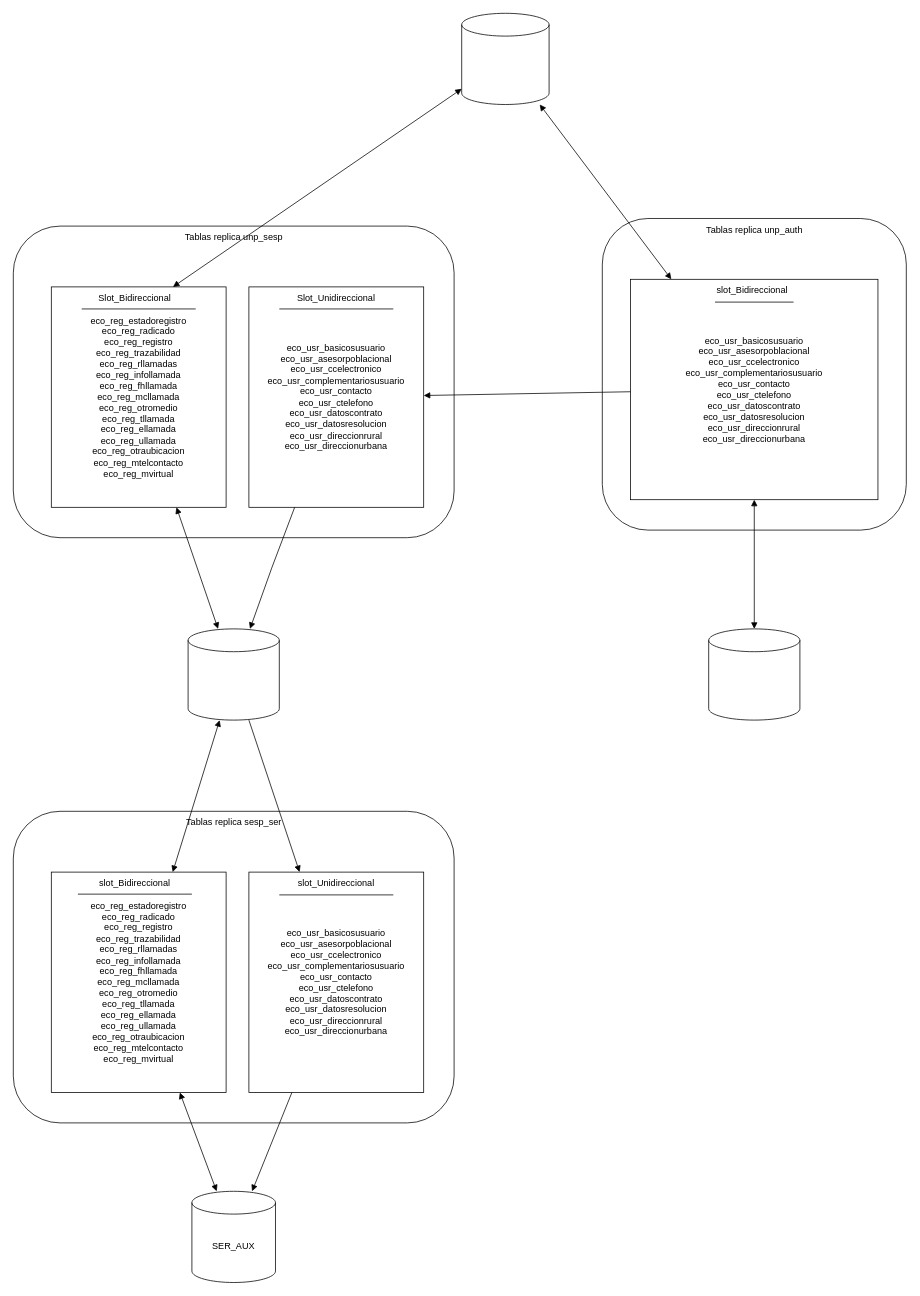
This 920x1296 diagram has some shape labels left out. Here are the shapes that lost their labels. From the top down, the centre of each, then its label:
the point at 505,58: UNP_AUX
the point at 233,674: SESP_AUX
the point at 754,674: AUTH_AUX
